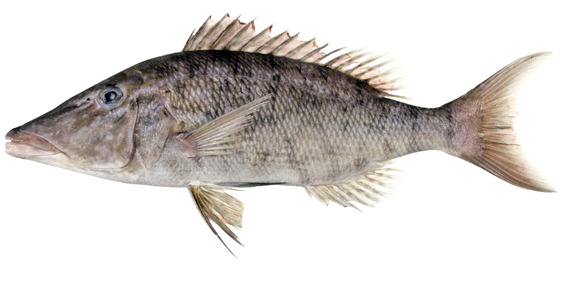fish: (4, 12, 558, 260)
